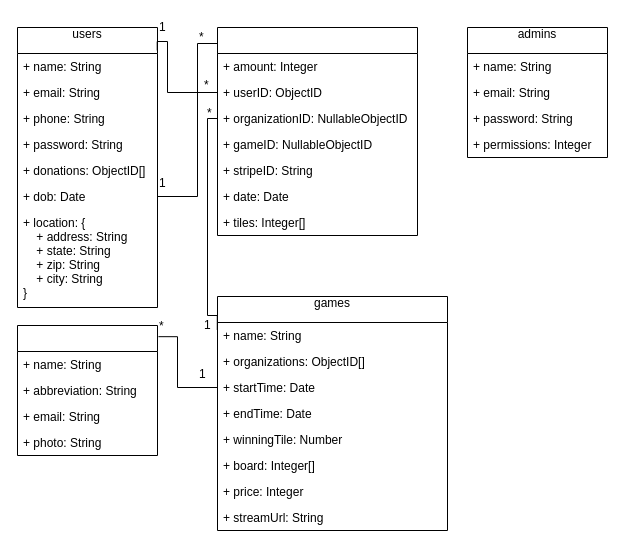
This 625x550 diagram has some shape labels left out. Each missing label, with the box of its shape:
donations: (216, 26, 418, 236)
organizations: (16, 324, 158, 456)
